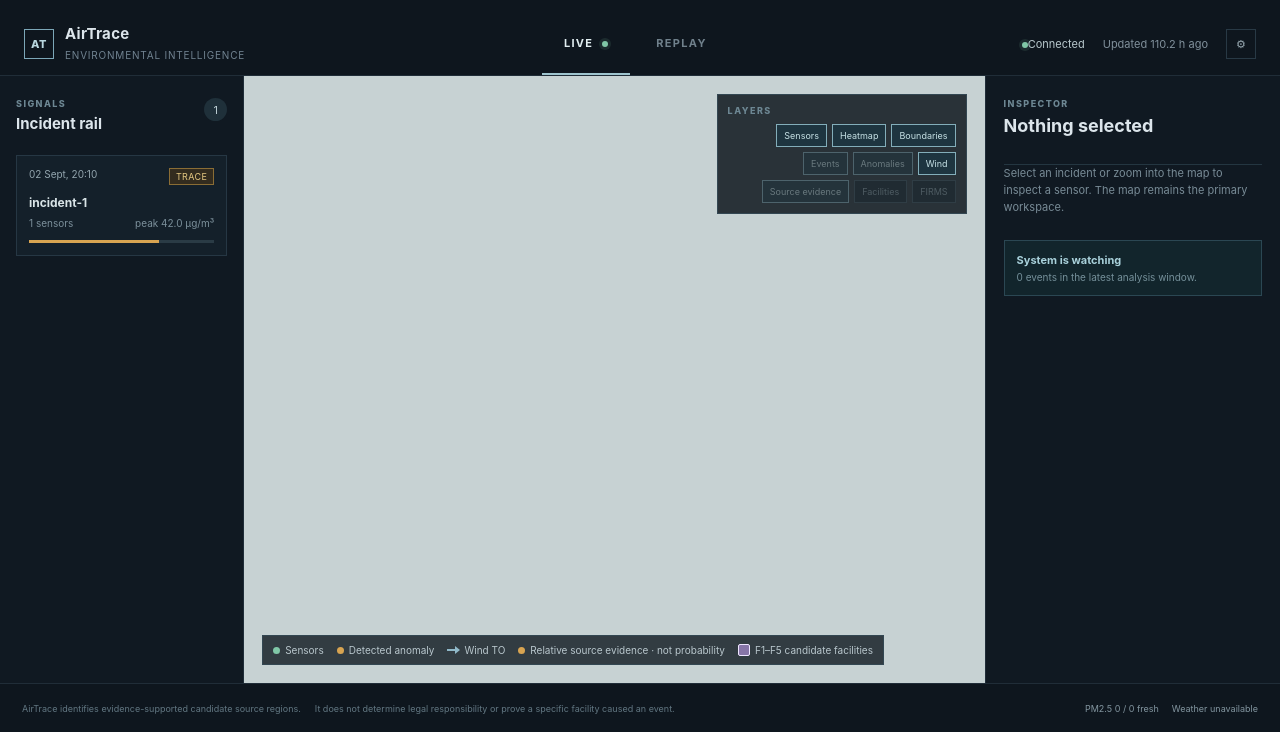
Test: App map evidence selection › keeps the incident context and layers when a sensor is inspected
Click the button with class "incident-row": (122, 206) [16,155,227,256]
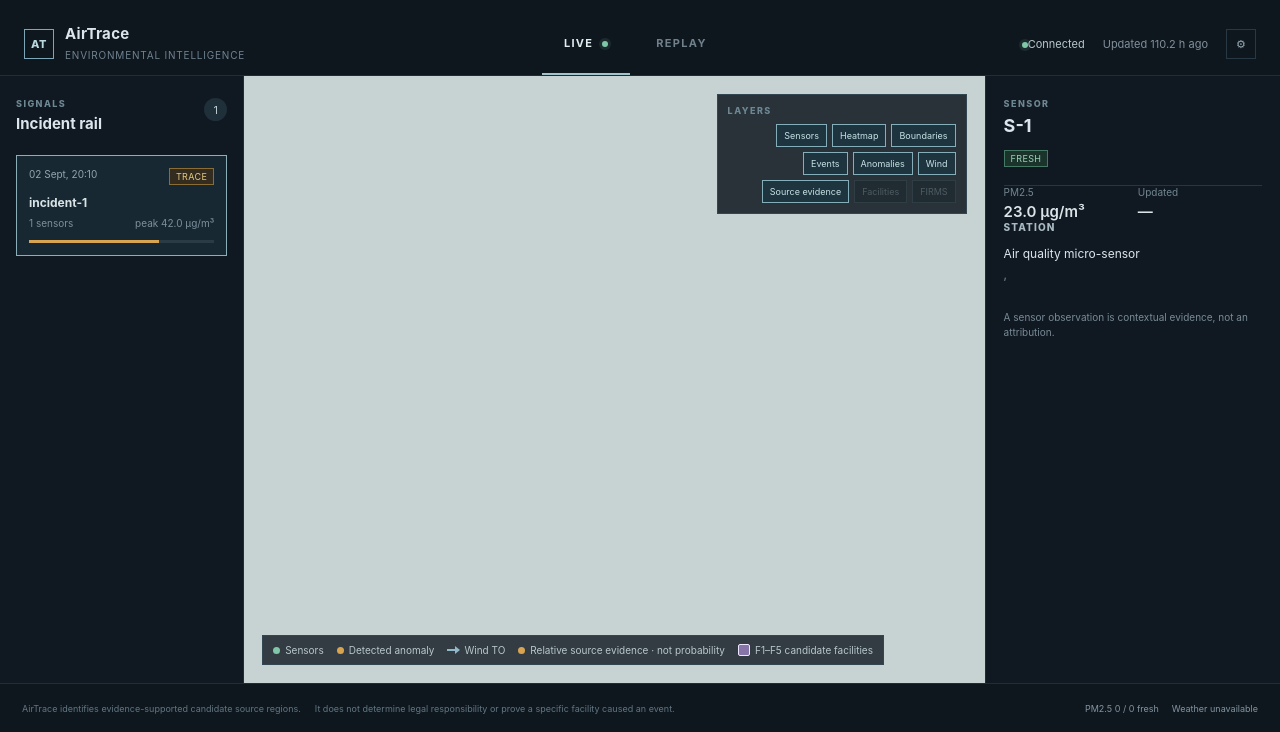
expect the text "S-1" is shown: met, box [1004,115,1032,136]
expect the button "Events" is enabled: met, box [803,152,848,175]
